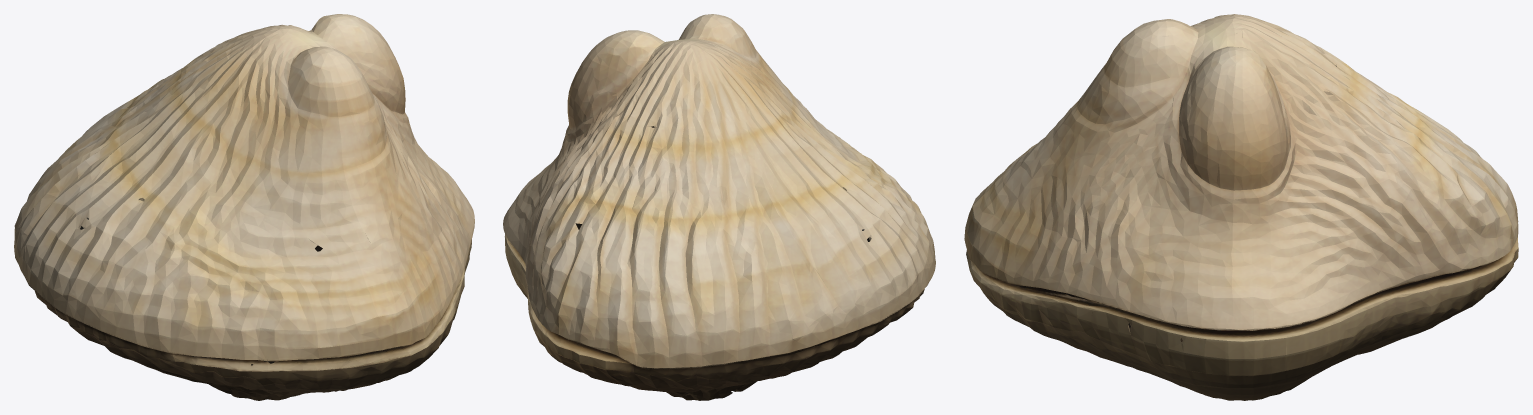
3 renders of one model, left to right at view 1: azimuth 30°, elevation 25°; view 2: azimuth 150°, elevation 25°; view 3: azimuth 270°, elevation 25°, orthographic. The views are drawn at different scales.
Parts seen in each view (by area): view 1: geometry_0; view 2: geometry_0; view 3: geometry_0.
Boxes of the visible parts, x1=… form: geometry_0: x1=14, y1=14, x2=474, y2=400; geometry_0: x1=503, y1=14, x2=935, y2=400; geometry_0: x1=964, y1=14, x2=1518, y2=400.
Size of the model in its own units: 0.0442 by 0.0361 by 0.049.
Materials: 1 (1 with a texture image).
